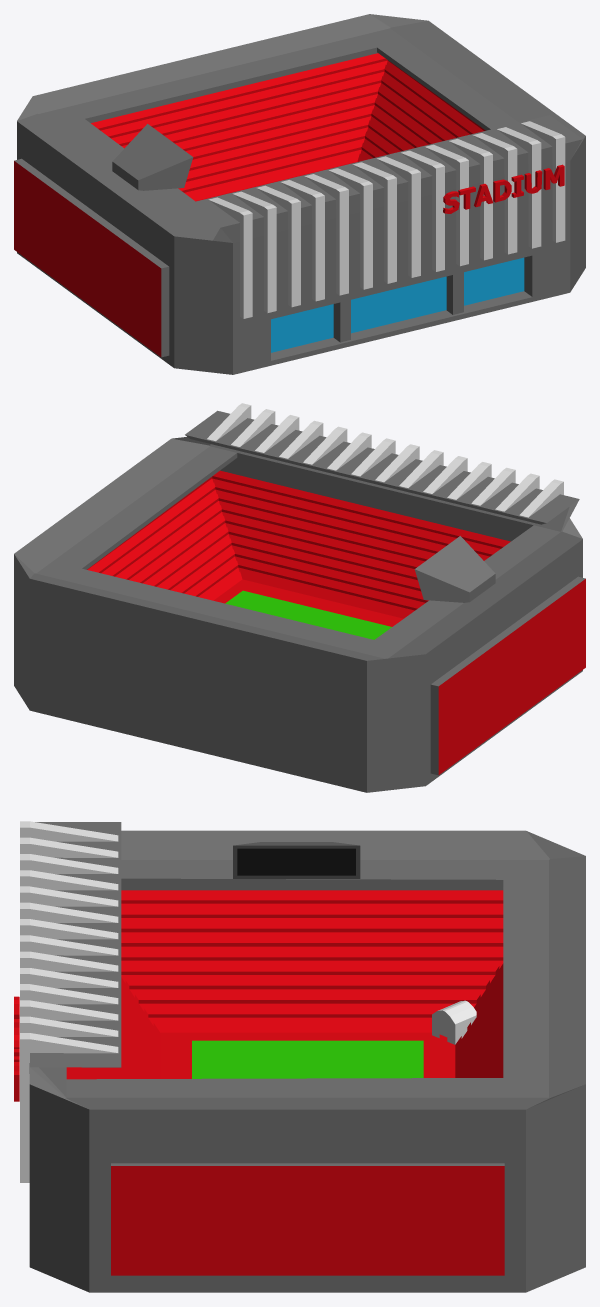
The model's file is san van dong.fbx.
3 renders of one model, top to bottom at view 1: azimuth 30°, elevation 25°; view 2: azimuth 150°, elevation 25°; view 3: azimuth 270°, elevation 25°, orthographic. The views are drawn at different scales.
Parts seen in each view (by area): view 1: Text; view 2: Text; view 3: Text.
Part boxes in pixels (x1,y1,x2,y2): Text: (14, 14, 585, 374); Text: (14, 403, 585, 792); Text: (14, 821, 585, 1292).
Bounding box in the file's own units: 1894 × 685 × 1596.
